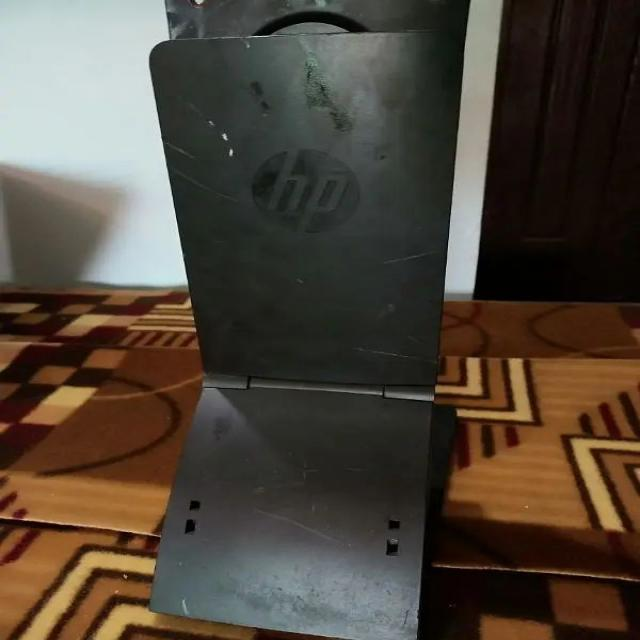electronic: (143, 0, 500, 638)
